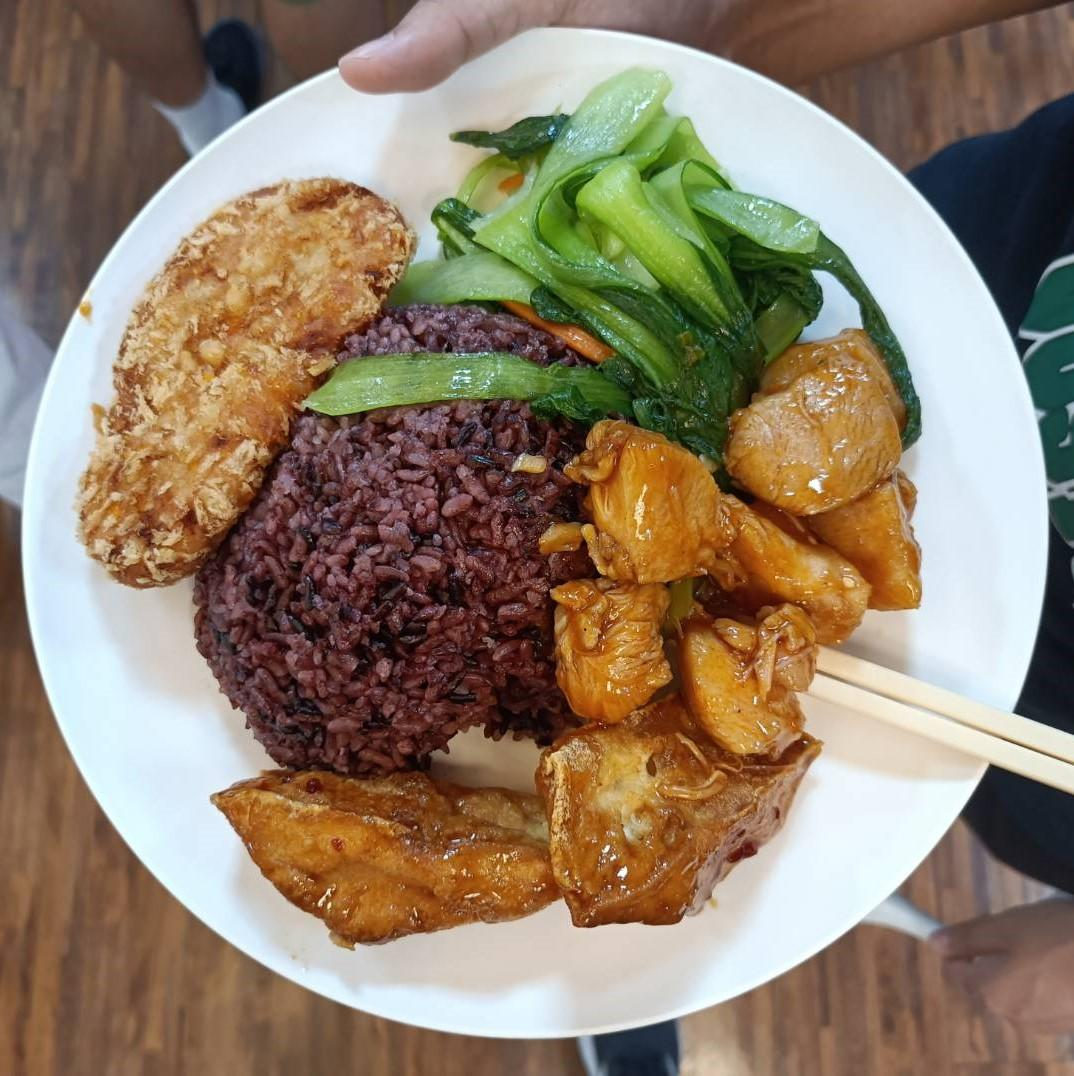big fried chicken leg: (11, 18, 1074, 1042)
braised fish: (183, 308, 683, 766)
braised fish fillet: (187, 693, 835, 950), (423, 88, 881, 432)
braised pork: (53, 140, 417, 596), (539, 333, 933, 744)
